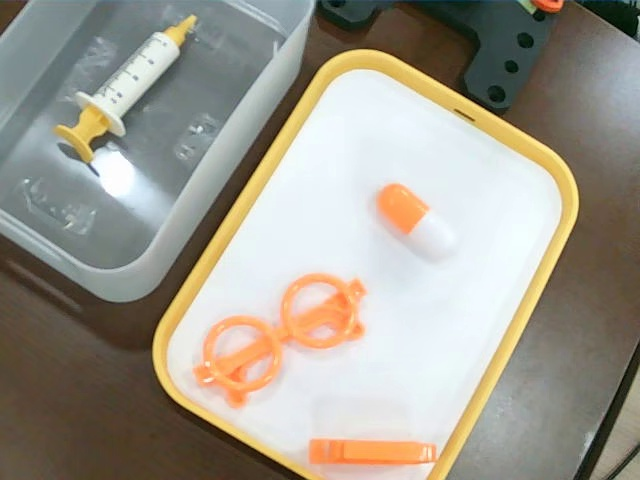pill: (375, 182, 460, 259)
syringe: (49, 13, 198, 164)
